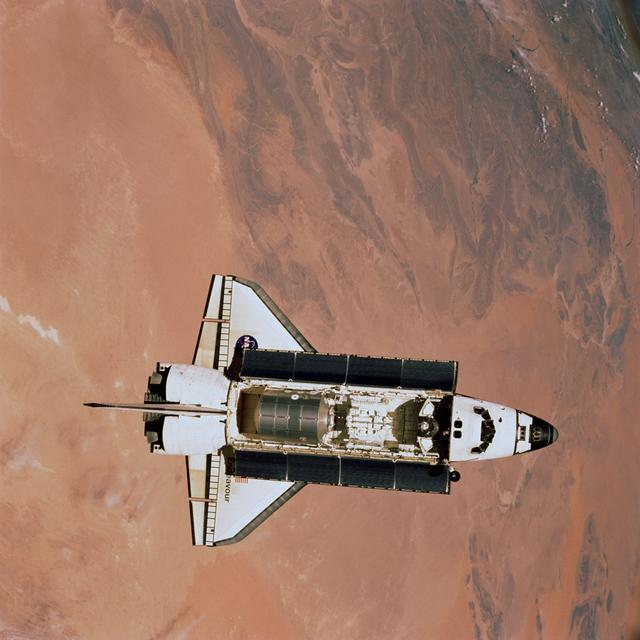satellite: (90, 275, 558, 546)
